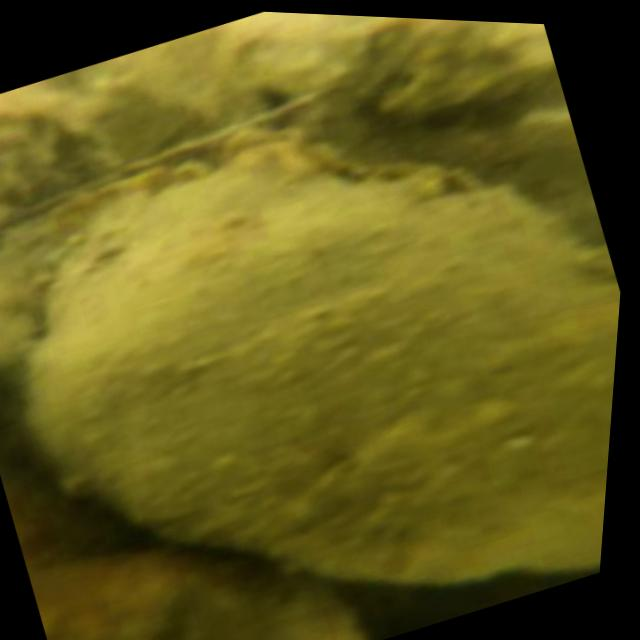Oyster-Closed: (24, 127, 620, 588)
